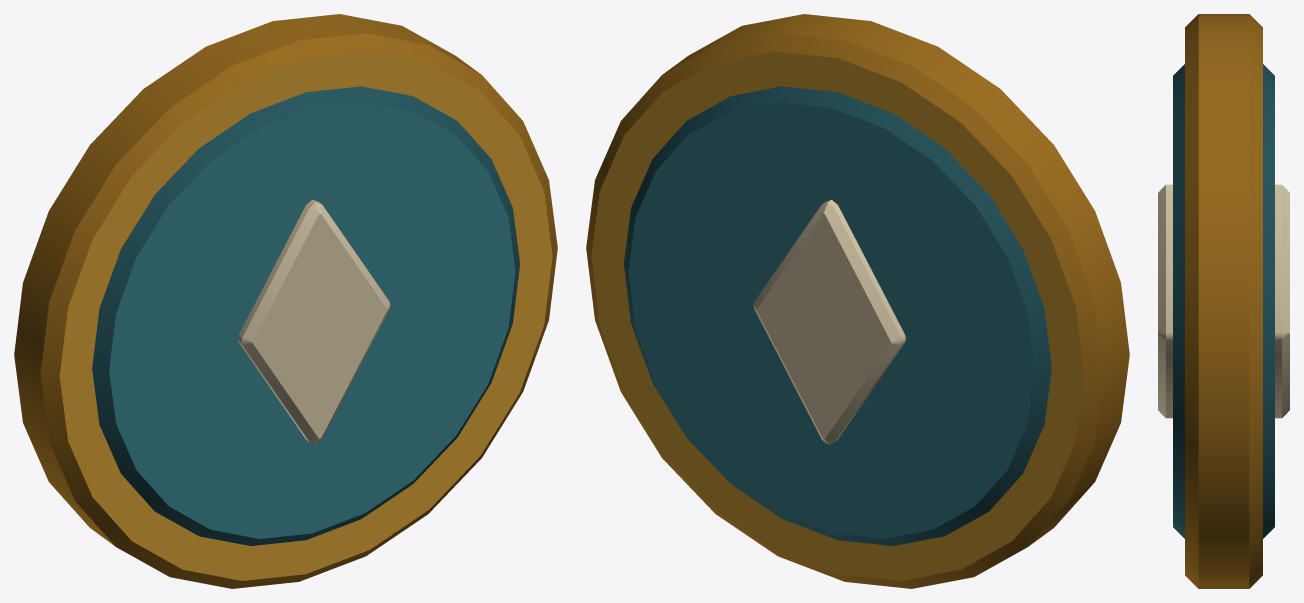
The model's file is Badge_20.glb.
3 views of the same model, side by side, from view 1: azimuth 30°, elevation 25°; view 2: azimuth 150°, elevation 25°; view 3: azimuth 270°, elevation 25° (orthographic). The views are drawn at different scales.
Visible parts, largest first — view 1: Badge_20; view 2: Badge_20; view 3: Badge_20.
Boxes of the visible parts, box(x1,y1,x2,y2) form: Badge_20: box(14, 14, 557, 588); Badge_20: box(586, 14, 1129, 588); Badge_20: box(1158, 14, 1289, 588).
Size of the model in its own units: 1.93 by 1.93 by 0.44.
